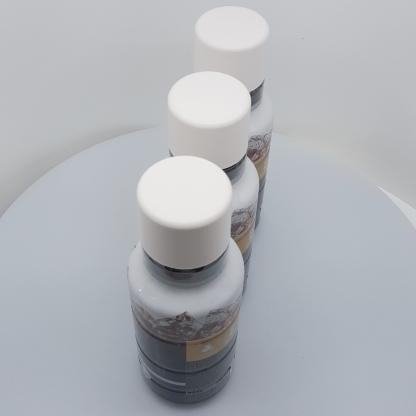-------------1-1L: (127, 155, 244, 405)
